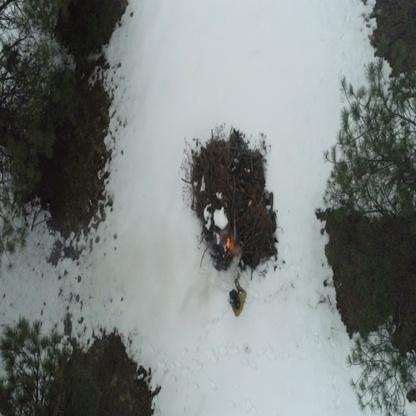Fire: (223, 236, 241, 257)
